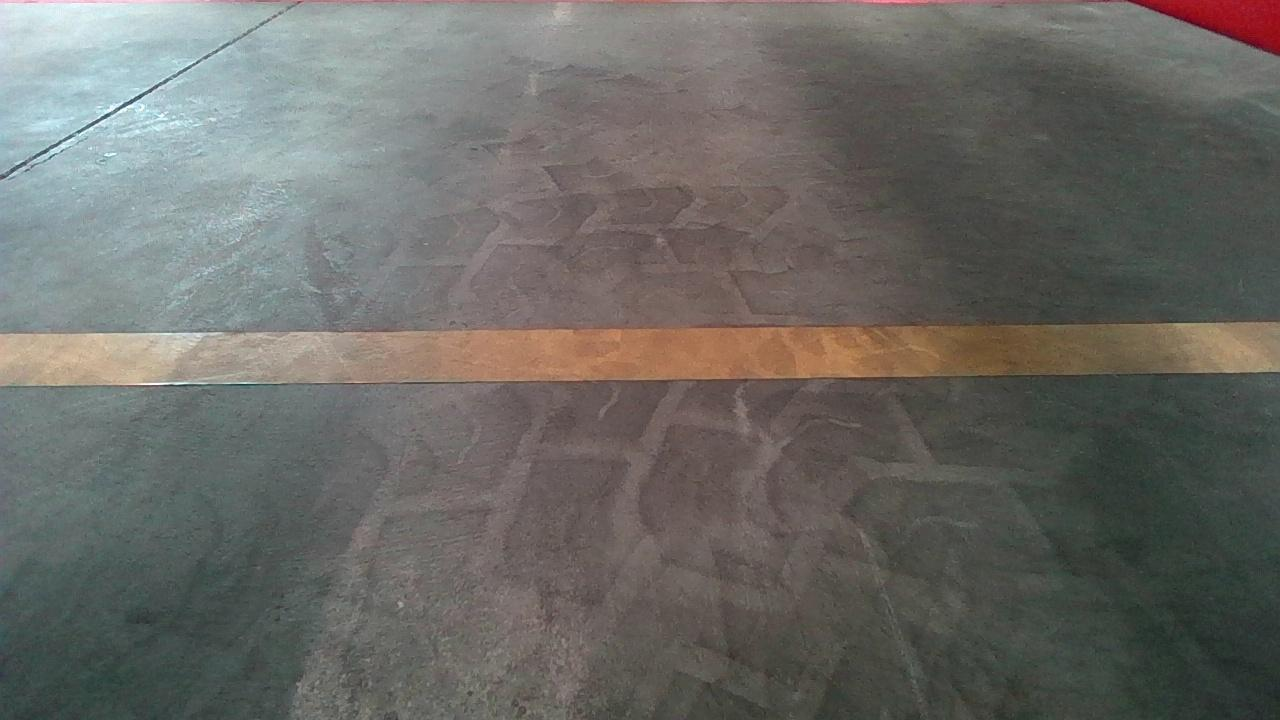yellow_line: (0, 317, 1271, 388)
